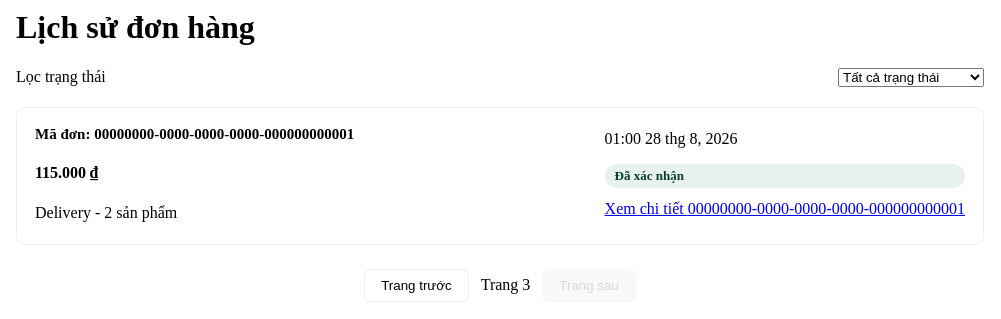
Test case: OrderHistoryPage › loads filtered orders and resets to page 1 when status changes
The image size is (1001, 319).
Select "Đã xác nhận" in the dropdown labelled "Lọc trạng thái" at {"x": 911, "y": 77}, box [838, 68, 984, 87]
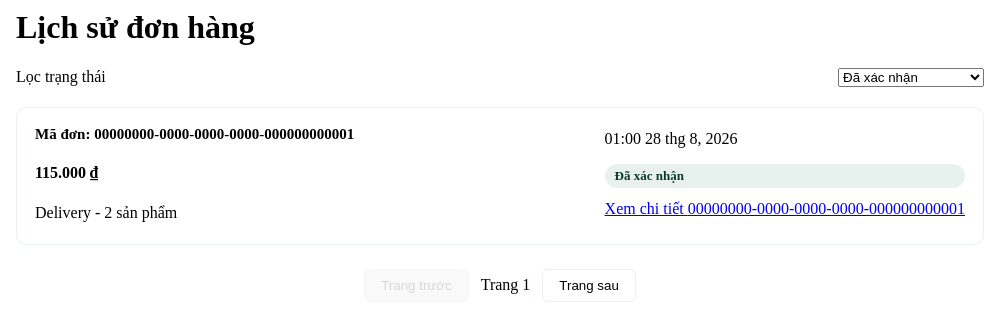
expect the dropdown labelled "Lọc trạng thái" shows "Đã xác nhận": met, box [838, 68, 984, 87]
expect the text "Trang 1" is shown: met, box [481, 276, 530, 294]
